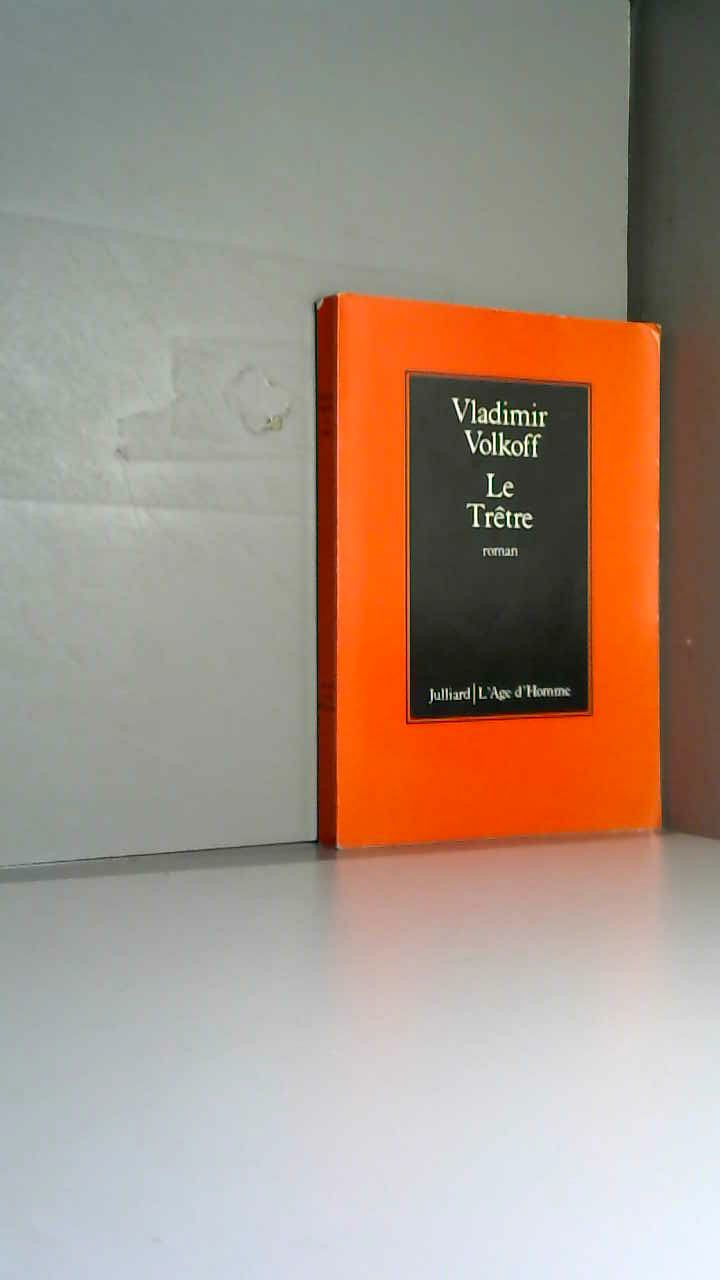book: (290, 260, 720, 898)
